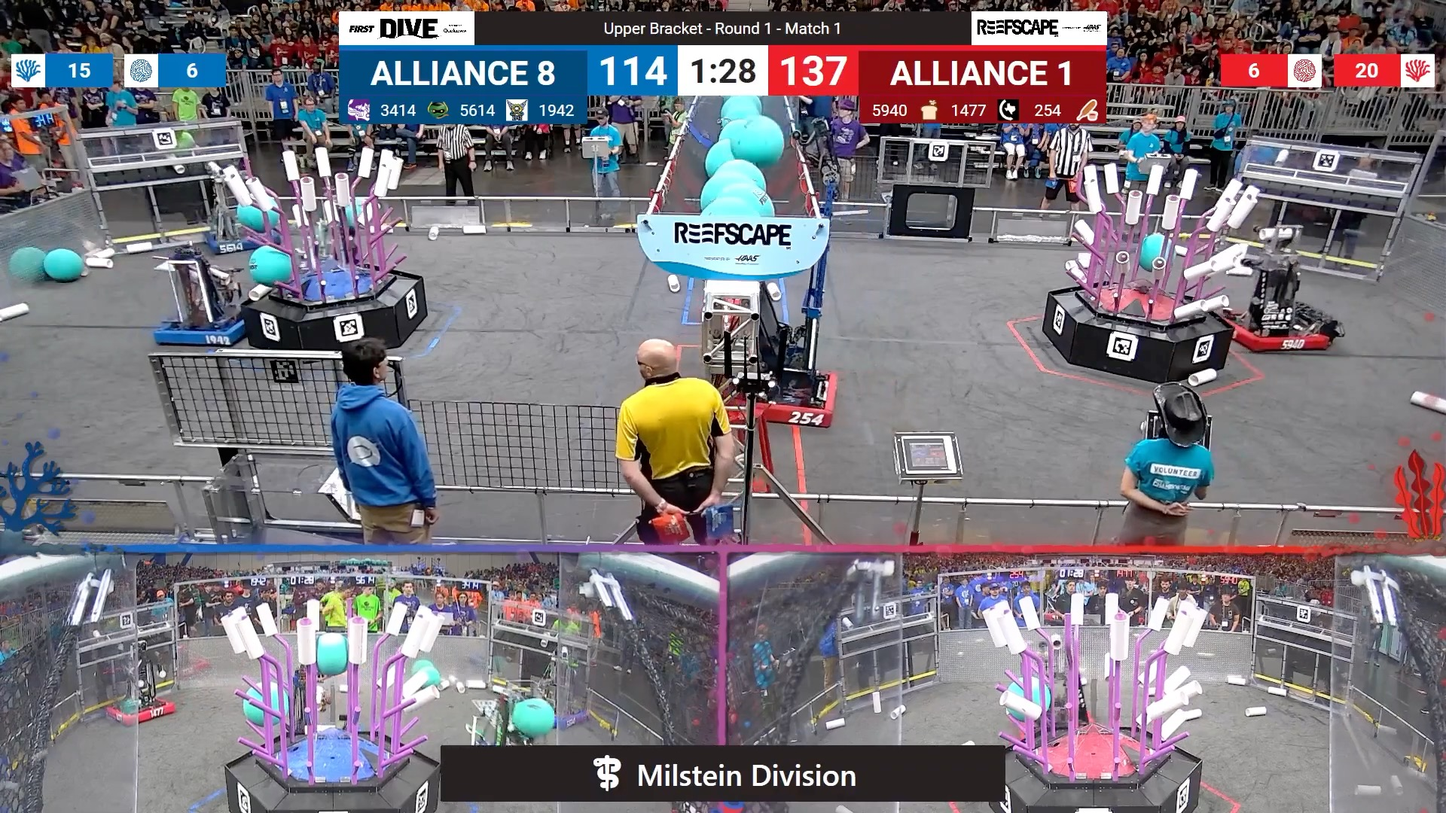bumpers: (720, 362, 852, 430), (1211, 302, 1348, 363), (155, 304, 257, 353), (199, 222, 291, 253), (98, 695, 181, 729), (1018, 701, 1100, 730)
